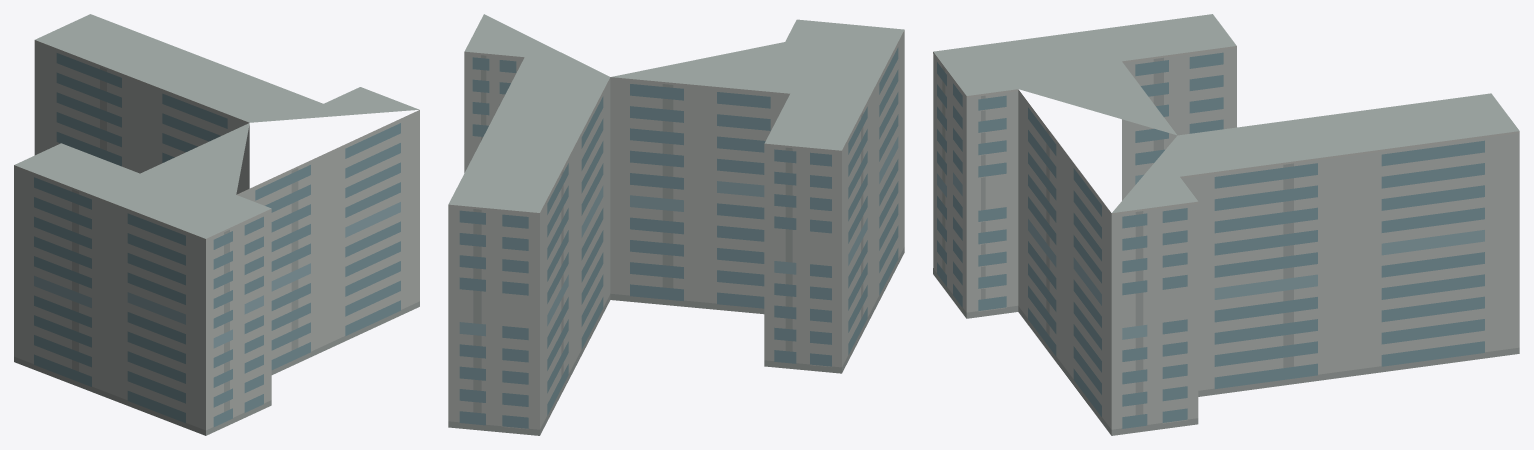
File: residential-95324b4d-5852-428e-8830-47b39ac3d92e.glb
3 renders of one model, left to right at view 1: azimuth 30°, elevation 25°; view 2: azimuth 150°, elevation 25°; view 3: azimuth 270°, elevation 25°, orthographic. The views are drawn at different scales.
Parts seen in each view (by area): view 1: residential-95324b4d-5852-428e-8830-47b39ac3d92e.tmp; view 2: residential-95324b4d-5852-428e-8830-47b39ac3d92e.tmp; view 3: residential-95324b4d-5852-428e-8830-47b39ac3d92e.tmp.
Boxes of the visible parts, <box> form: residential-95324b4d-5852-428e-8830-47b39ac3d92e.tmp: <box>14,14,419,435</box>; residential-95324b4d-5852-428e-8830-47b39ac3d92e.tmp: <box>448,14,904,435</box>; residential-95324b4d-5852-428e-8830-47b39ac3d92e.tmp: <box>933,14,1519,435</box>.
Bounding box in the file's own units: 51.8 × 27 × 64.45.
